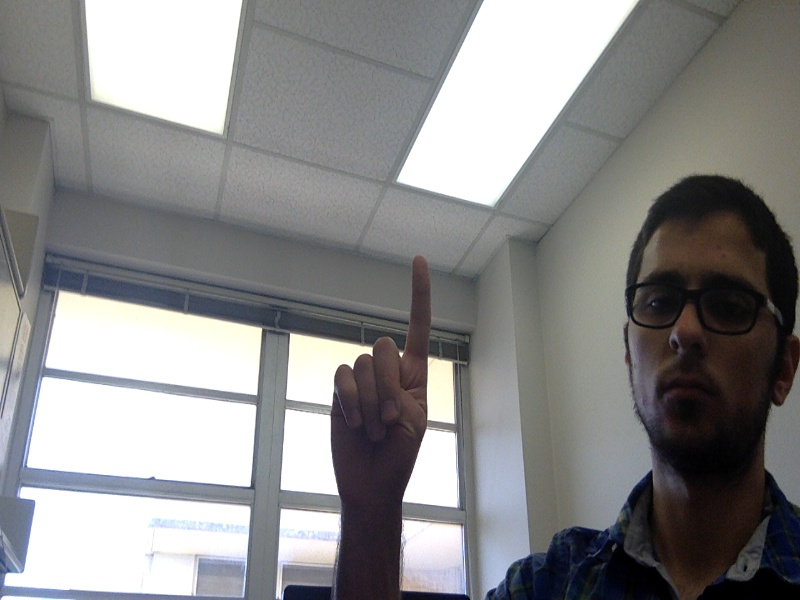1-hand: (324, 259, 433, 490)
